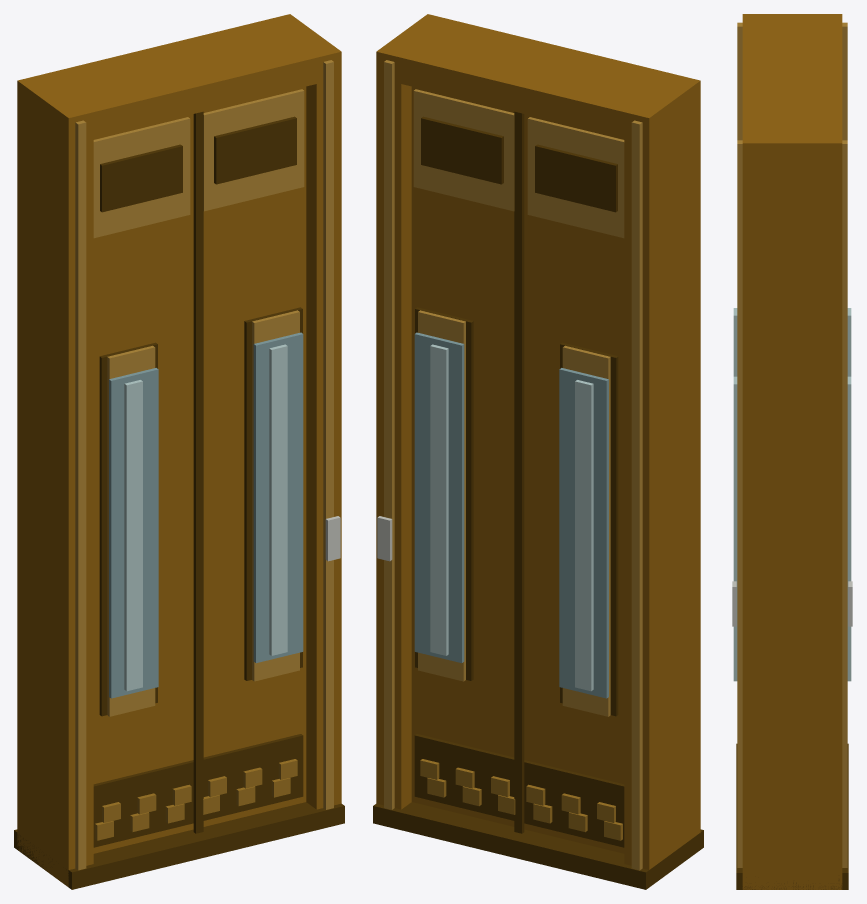
The model's file is CMU3DSingleEngiDoorGlass.glb.
3 renders of one model, left to right at view 1: azimuth 30°, elevation 25°; view 2: azimuth 150°, elevation 25°; view 3: azimuth 270°, elevation 25°, orthographic. The views are drawn at different scales.
Parts seen in each view (by area): view 1: door jamb (×2), closed leaf body, glass port (×2), header, jamb raised edge (×2), upper inset band (×2), glass reflection (×2), lower hazard backing, threshold, upper dark inset (×2), leaf meeting seam, window dark surround (×2) (+2 smaller); view 2: closed leaf body, door jamb (×2), glass port back (×2), header, jamb raised edge (×2), upper inset band back (×2), glass reflection back (×2), lower hazard backing back, threshold, upper dark inset back (×2), leaf meeting seam back, window dark surround back (×2) (+2 smaller); view 3: door jamb (×2), header, jamb raised edge (×4), glass reflection (×2), glass reflection back (×2), threshold.
Boxes of the visible parts, x1,y1,x2,y2 form: door jamb (×2): (17, 14, 341, 887); closed leaf body: (93, 86, 306, 853); glass port (×2): (109, 332, 303, 698); header: (17, 14, 341, 144); jamb raised edge (×2): (75, 60, 333, 870); upper inset band (×2): (93, 89, 304, 238); glass reflection (×2): (124, 344, 287, 691); lower hazard backing: (93, 734, 303, 847); threshold: (14, 802, 344, 889); upper dark inset (×2): (100, 116, 296, 212); leaf meeting seam: (193, 111, 203, 833); window dark surround (×2): (99, 307, 302, 716); closed leaf body: (411, 86, 624, 853); door jamb (×2): (376, 14, 700, 869); glass port back (×2): (414, 332, 608, 698); header: (376, 14, 700, 144); jamb raised edge (×2): (384, 60, 642, 870); upper inset band back (×2): (413, 89, 624, 238); glass reflection back (×2): (430, 344, 593, 691); lower hazard backing back: (414, 734, 624, 847); threshold: (373, 802, 703, 889); upper dark inset back (×2): (421, 116, 617, 212); leaf meeting seam back: (514, 111, 524, 833); window dark surround back (×2): (415, 307, 618, 716); door jamb (×2): (742, 14, 842, 889); header: (742, 14, 842, 168); jamb raised edge (×4): (737, 22, 847, 867); glass reflection (×2): (733, 308, 737, 681); glass reflection back (×2): (847, 308, 851, 681); threshold: (736, 743, 848, 889).
Bounding box in the file's own units: 0.98 × 2.64 × 0.386.
